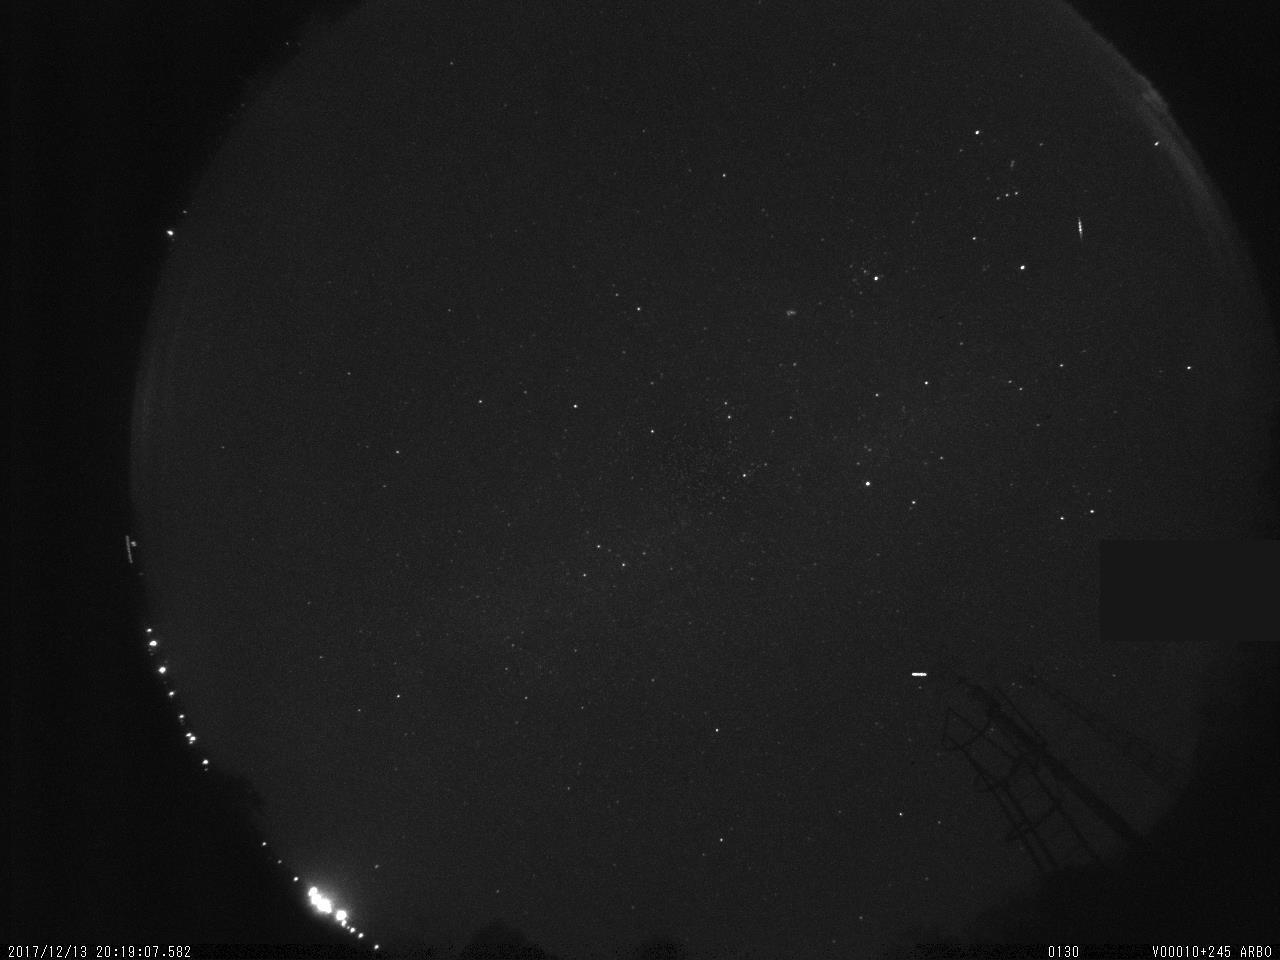meteor: (1061, 206, 1096, 250)
